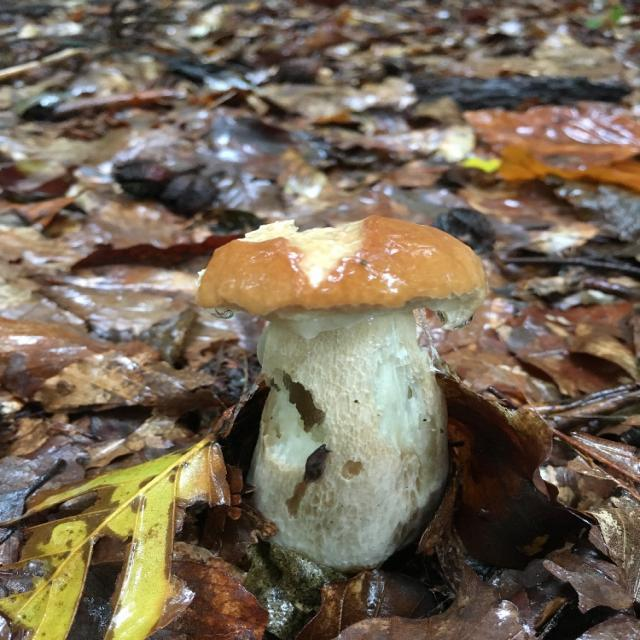Boletus: (193, 218, 499, 572)
